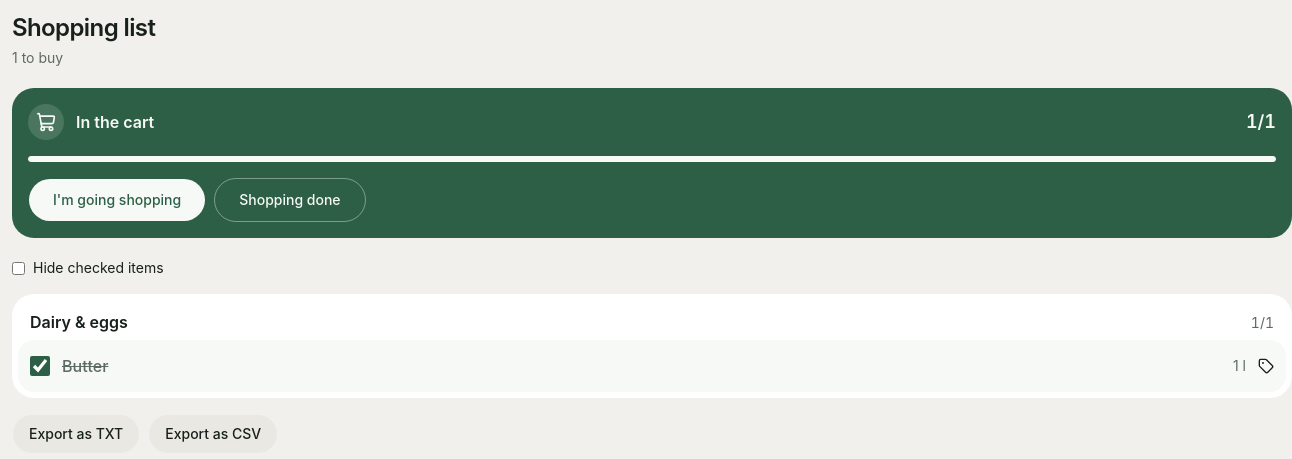
ShoppingList hide-checked toggle › explains the empty view when everything is checked and hidden
The width and height of the screenshot is (1292, 459).
Click the checkbox labelled "Hide checked items": x=18, y=268 [12,262,25,274]
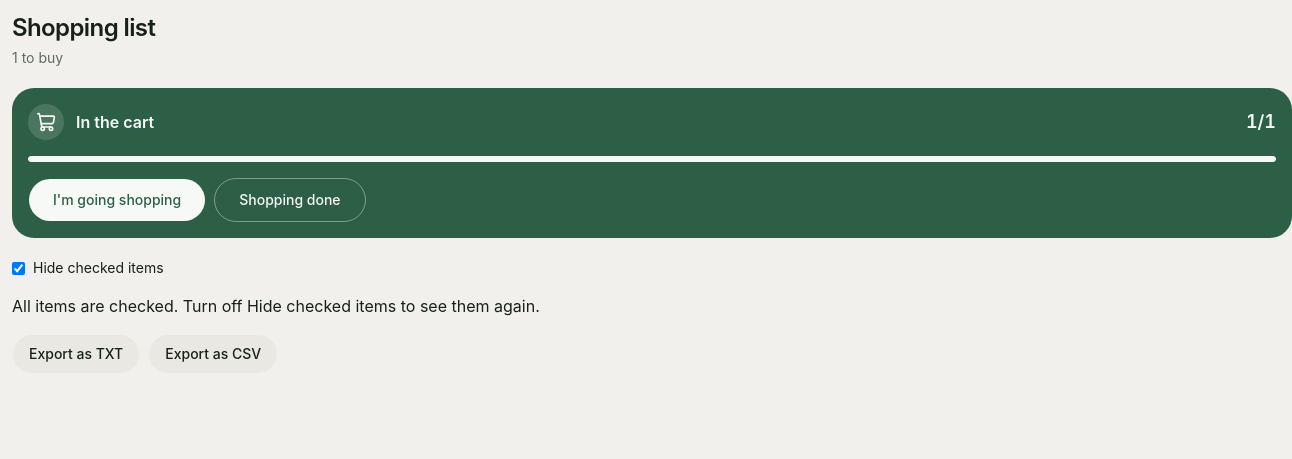
expect the heading "Dairy & eggs" is gone: met
expect the text "Turn off Hide checked items to see them again" is shown: met, box [12,296,540,316]
